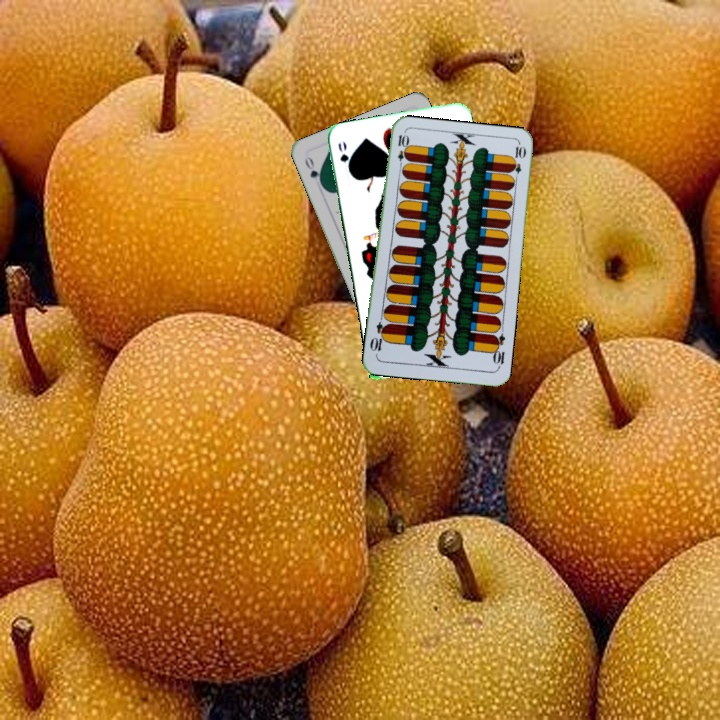E10: (488, 330, 507, 371), (393, 131, 409, 171)
GO: (301, 153, 326, 190), (334, 137, 354, 177)
